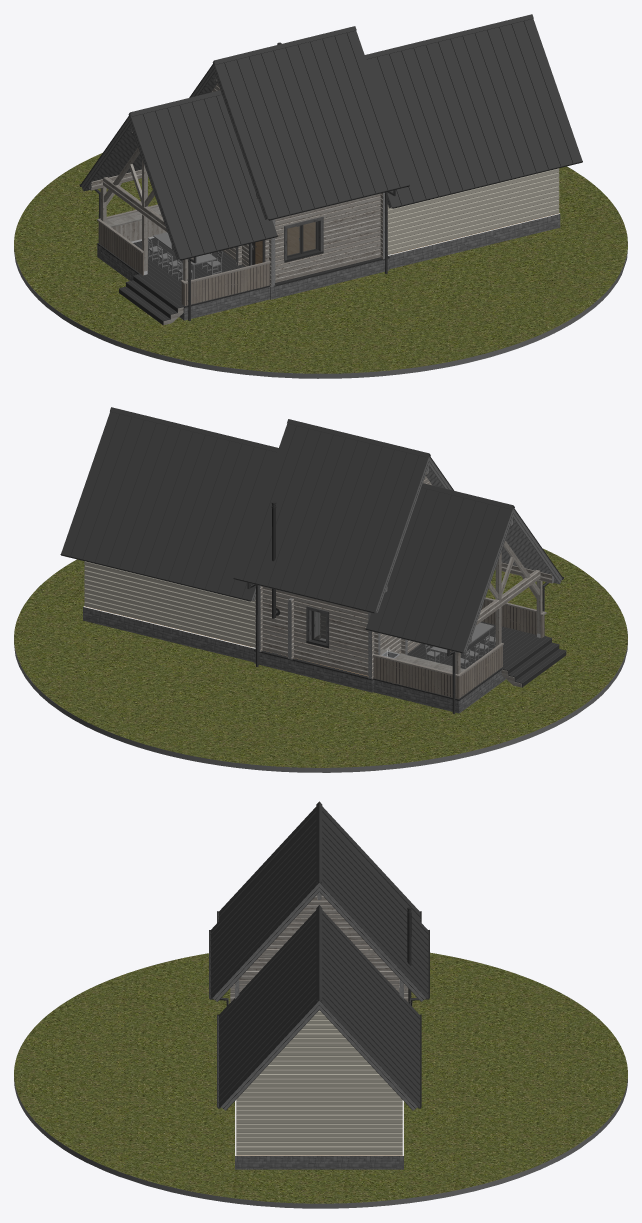
The model's file is annex.glb.
3 renders of one model, top to bottom at view 1: azimuth 30°, elevation 25°; view 2: azimuth 150°, elevation 25°; view 3: azimuth 270°, elevation 25°, orthographic.
Visible parts, largest first — view 1: PEN_MATERIAL2_PEN_MATERIAL2_0, object 16, object 1, object 42, object 8, object 3, PEN_MATERIAL53_PEN_MATERIAL53_0, object 31, object 38, object 6, object 4, object 36 (+4 smaller); view 2: PEN_MATERIAL2_PEN_MATERIAL2_0, object 16, object 1, object 42, object 8, object 38, PEN_MATERIAL53_PEN_MATERIAL53_0, object 3, object 31, object 36, object 6, object 26 (+1 smaller); view 3: object 16, PEN_MATERIAL2_PEN_MATERIAL2_0, object 42, object 31, PEN_MATERIAL53_PEN_MATERIAL53_0, object 1, object 8, object 36.
Part boxes in pixels (x1,y1,x2,y2): PEN_MATERIAL2_PEN_MATERIAL2_0: (79,14,582,320); object 16: (14,153,627,373); object 1: (89,79,387,324); object 42: (388,168,559,254); object 8: (97,214,560,320); object 3: (97,238,269,324); PEN_MATERIAL53_PEN_MATERIAL53_0: (14,170,627,378); object 31: (81,63,391,259); object 38: (99,222,269,305); object 6: (148,232,222,282); object 4: (255,213,558,263); object 36: (97,42,389,307); PEN_MATERIAL2_PEN_MATERIAL2_0: (60,407,563,713); object 16: (14,548,627,767); object 1: (255,471,554,687); object 42: (84,561,255,647); object 8: (83,607,505,713); object 38: (373,600,544,698); PEN_MATERIAL53_PEN_MATERIAL53_0: (14,558,627,772); object 3: (373,621,566,699); object 31: (251,456,562,652); object 36: (254,501,501,700); object 6: (424,622,495,669); object 26: (455,551,542,674); object 16: (14,953,627,1203); PEN_MATERIAL2_PEN_MATERIAL2_0: (209,801,429,1108); object 42: (236,1010,402,1155); object 31: (212,882,426,1110); PEN_MATERIAL53_PEN_MATERIAL53_0: (14,952,627,1208); object 1: (230,894,408,1002); object 8: (235,1156,403,1169); object 36: (212,882,426,1106).
Bounding box in the file's own units: 22.16 × 8.58 × 22.16.
Materials: 42 (15 with a texture image).
